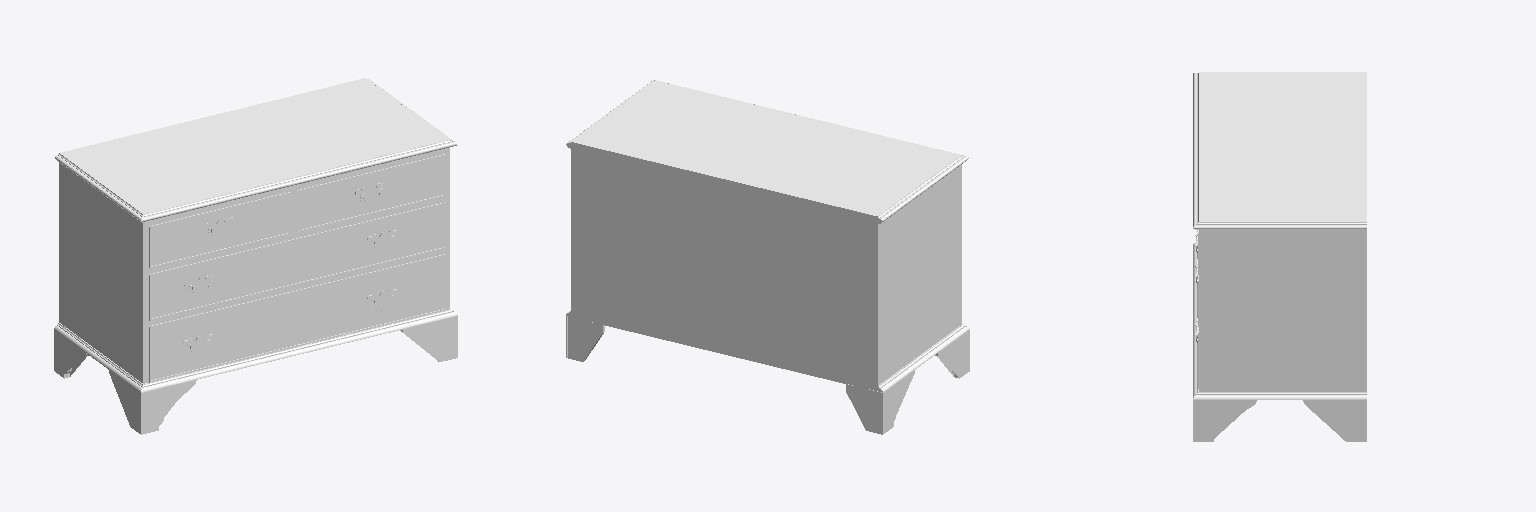
Rendered from 07_0114_Chest_of_Drawers.obj.
The picture shows the model from 3 angles: view 1: azimuth 30°, elevation 25°; view 2: azimuth 150°, elevation 25°; view 3: azimuth 270°, elevation 25°; orthographic projection.
Visible parts, largest first — view 1: Mesh33 Model, Mesh5 Group7 Model, Mesh6 Group8 Model, Mesh7 Group_3_1 Model, Mesh8 Group_3_2 Model, Mesh3 Group5 Group4 Model; view 2: Mesh33 Model, Mesh2 Group3 Group1 Model, Mesh4 Group6 Group4 Model, Mesh7 Group_3_1 Model, Mesh3 Group5 Group4 Model; view 3: Mesh33 Model, Mesh1 Group2 Group1 Model, Mesh8 Group_3_2 Model, Mesh6 Group8 Model, Mesh5 Group7 Model.
Part boxes in pixels (bbox=[...]): Mesh33 Model: bbox=[54, 78, 454, 392]; Mesh5 Group7 Model: bbox=[141, 309, 457, 392]; Mesh6 Group8 Model: bbox=[141, 140, 456, 222]; Mesh7 Group_3_1 Model: bbox=[109, 370, 196, 434]; Mesh8 Group_3_2 Model: bbox=[400, 316, 457, 361]; Mesh3 Group5 Group4 Model: bbox=[54, 330, 88, 378]; Mesh33 Model: bbox=[566, 80, 969, 392]; Mesh2 Group3 Group1 Model: bbox=[568, 317, 604, 361]; Mesh4 Group6 Group4 Model: bbox=[846, 384, 880, 433]; Mesh7 Group_3_1 Model: bbox=[935, 330, 969, 378]; Mesh3 Group5 Group4 Model: bbox=[881, 370, 914, 434]; Mesh33 Model: bbox=[1193, 72, 1366, 399]; Mesh1 Group2 Group1 Model: bbox=[1303, 400, 1366, 441]; Mesh8 Group_3_2 Model: bbox=[1193, 400, 1256, 441]; Mesh6 Group8 Model: bbox=[1193, 73, 1198, 226]; Mesh5 Group7 Model: bbox=[1193, 243, 1198, 397].
Bounding box in the file's own units: 43.52 × 28.49 × 20.75.